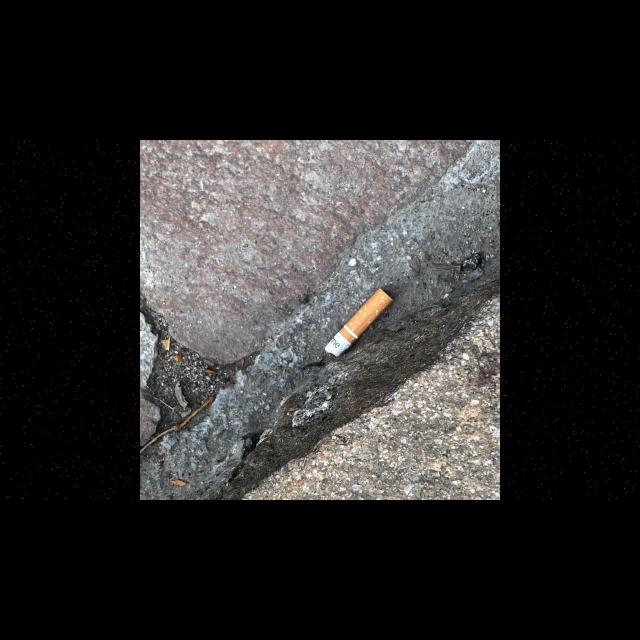cigarette: (324, 287, 395, 357)
